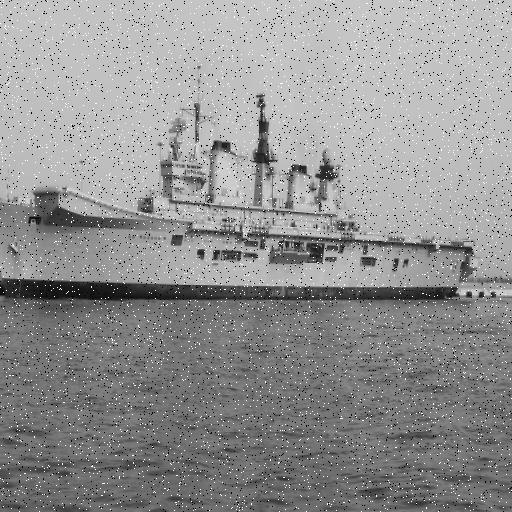Portanaves: (1, 59, 479, 303)
